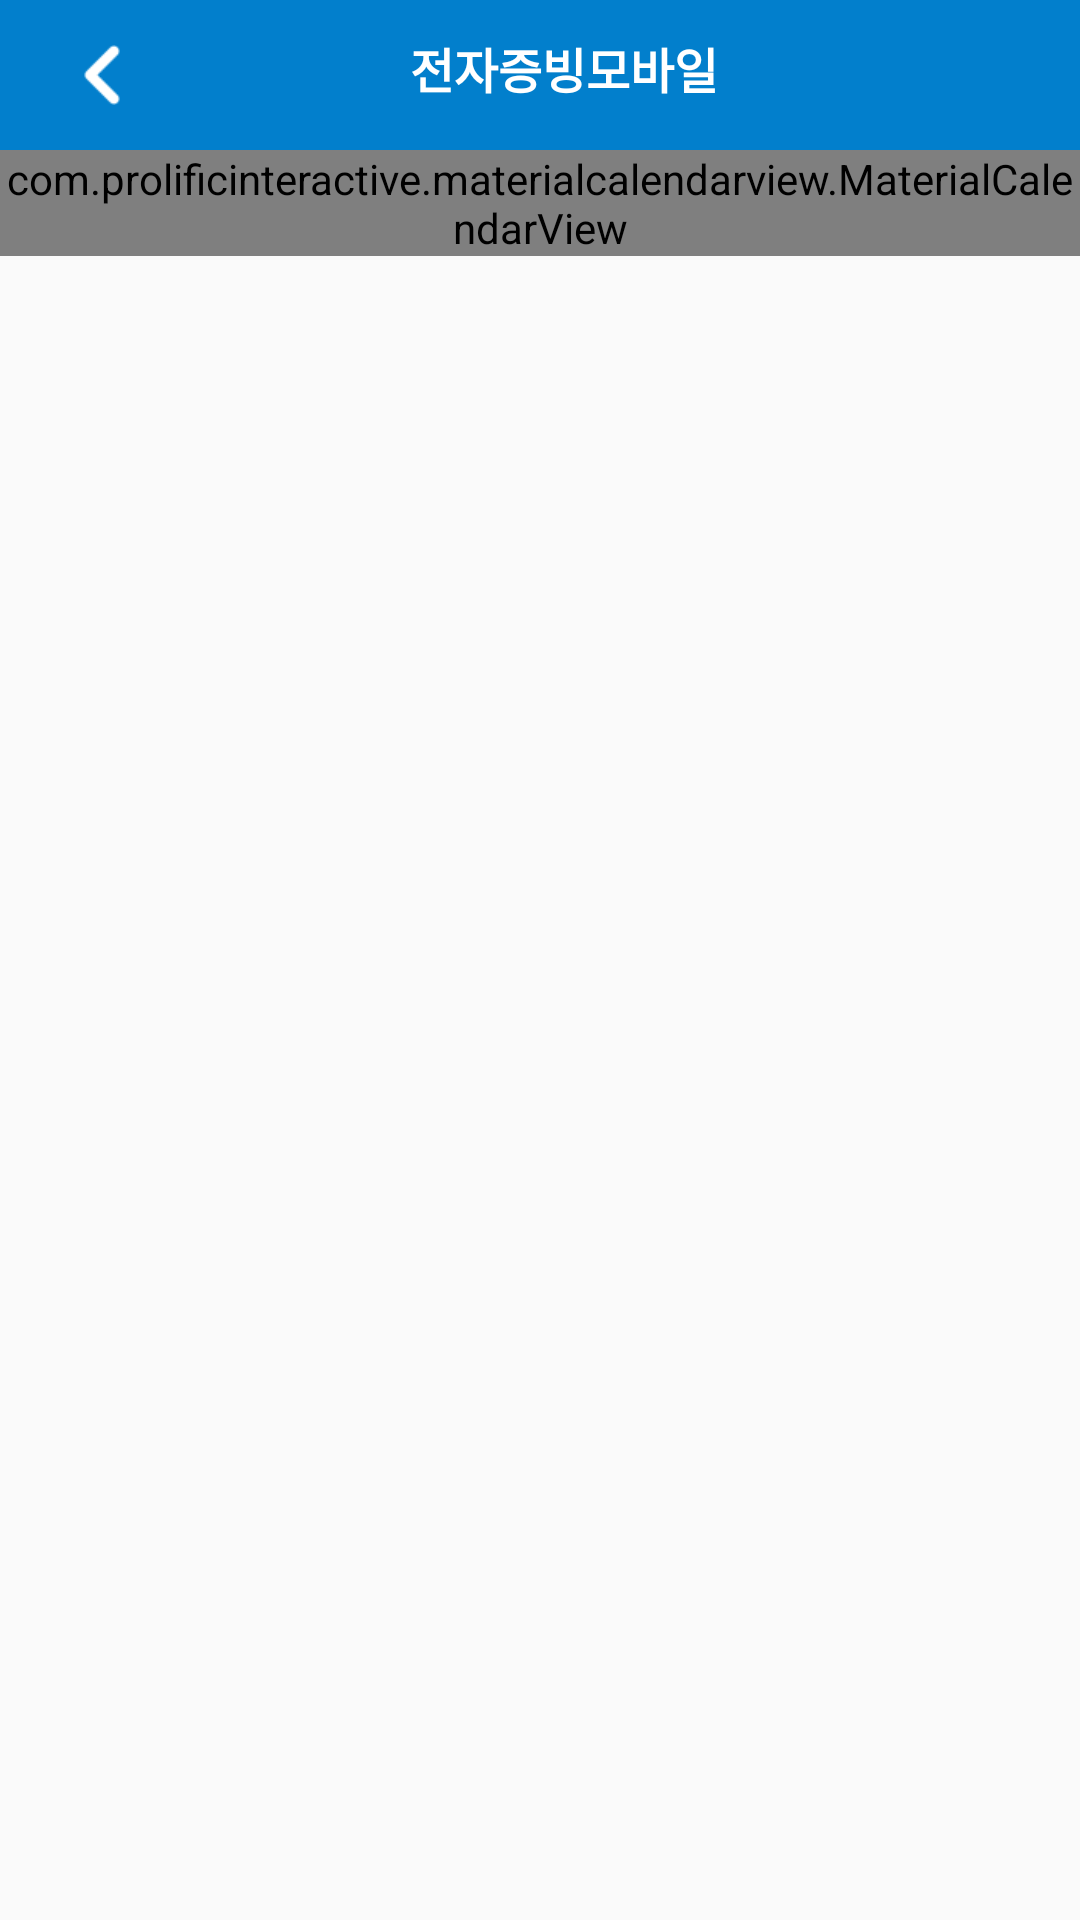

Icon bounding boxes for this 1080×1920 phone screenshot, format (x1, y1, x2, y2):
back: (84, 45, 120, 105)
